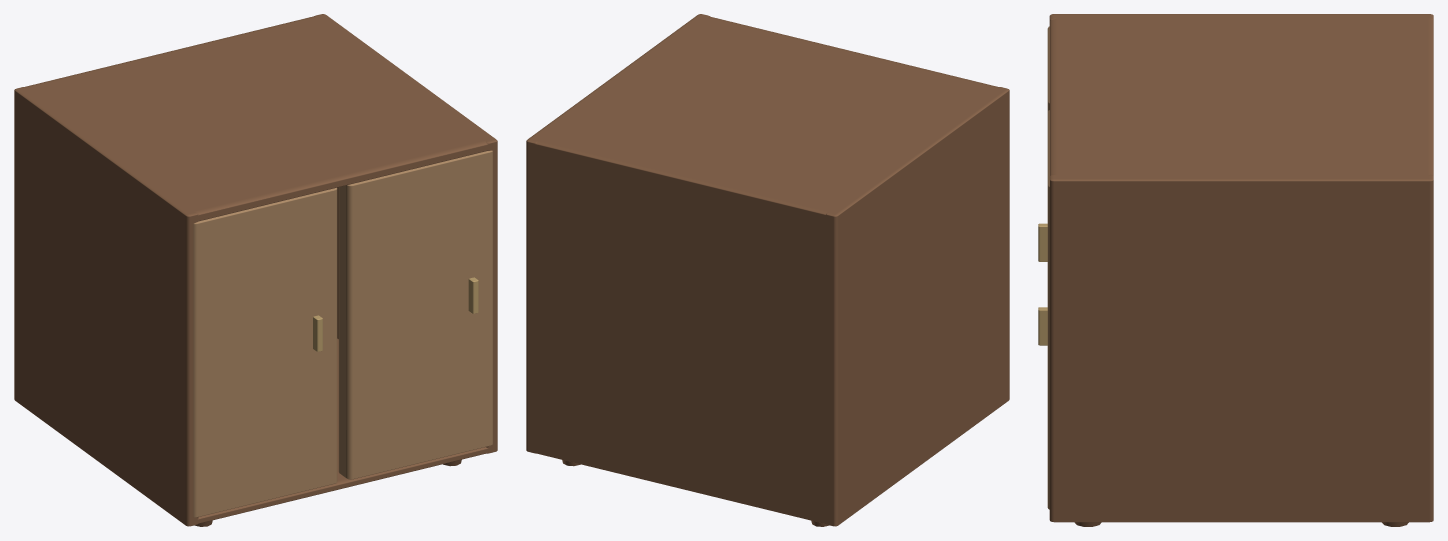
The model's file is cabinet-3-7.glb.
The picture shows the model from 3 angles, left to right: view 1: azimuth 30°, elevation 25°; view 2: azimuth 150°, elevation 25°; view 3: azimuth 270°, elevation 25°; orthographic projection. The views are drawn at different scales.
Visible parts, largest first — view 1: part, upholstery (×2); view 2: part; view 3: part, upholstery (×2).
Boxes of the visible parts, x1=… form: part: x1=14, y1=14, x2=497, y2=526; upholstery (×2): x1=193, y1=150, x2=492, y2=517; part: x1=526, y1=14, x2=1009, y2=526; part: x1=1049, y1=14, x2=1433, y2=526; upholstery (×2): x1=1038, y1=26, x2=1049, y2=509.
Size of the model in its own units: 1 by 1 by 1.
